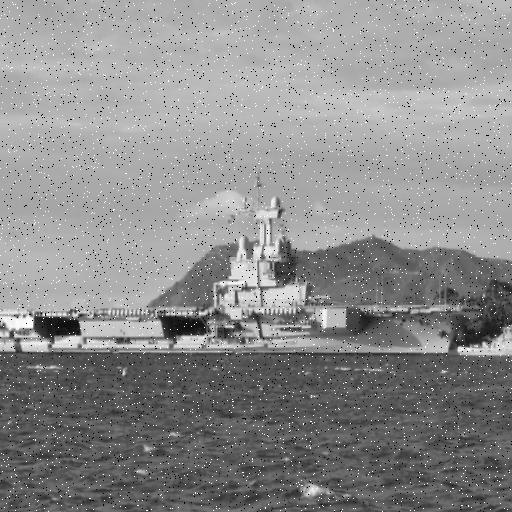Portanaves: (1, 169, 493, 360)
